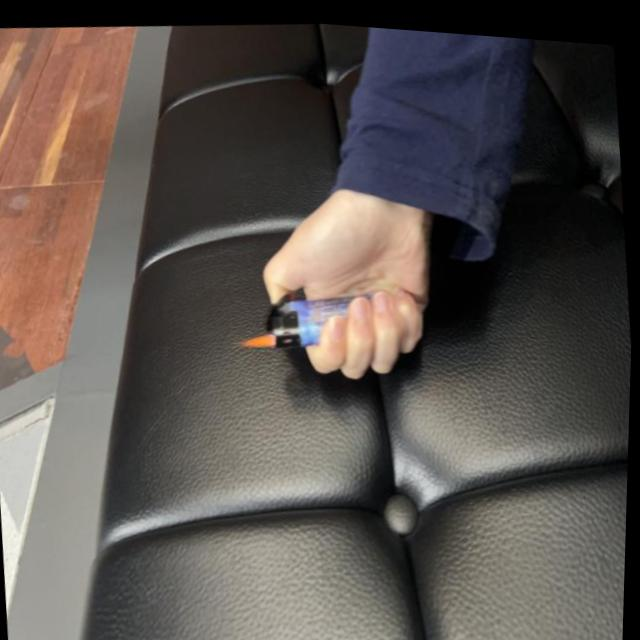Fire: (237, 323, 280, 348)
